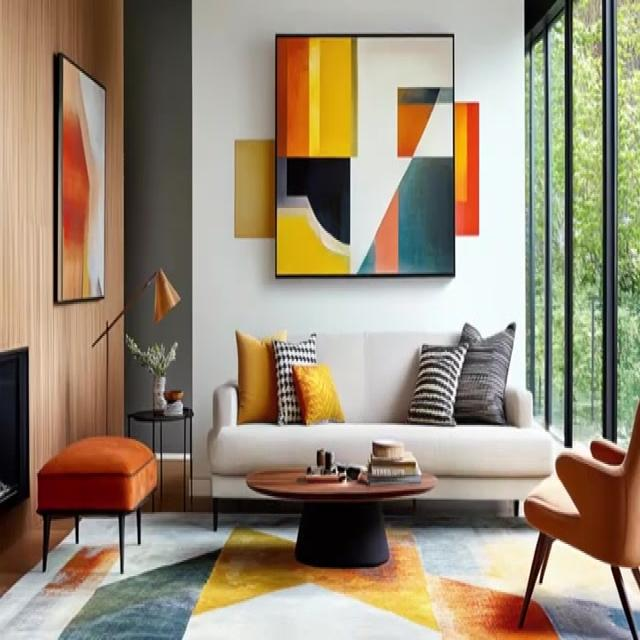obstacle: (206, 327, 554, 528), (518, 398, 639, 638), (245, 464, 438, 567), (35, 435, 154, 576), (127, 405, 194, 512)
